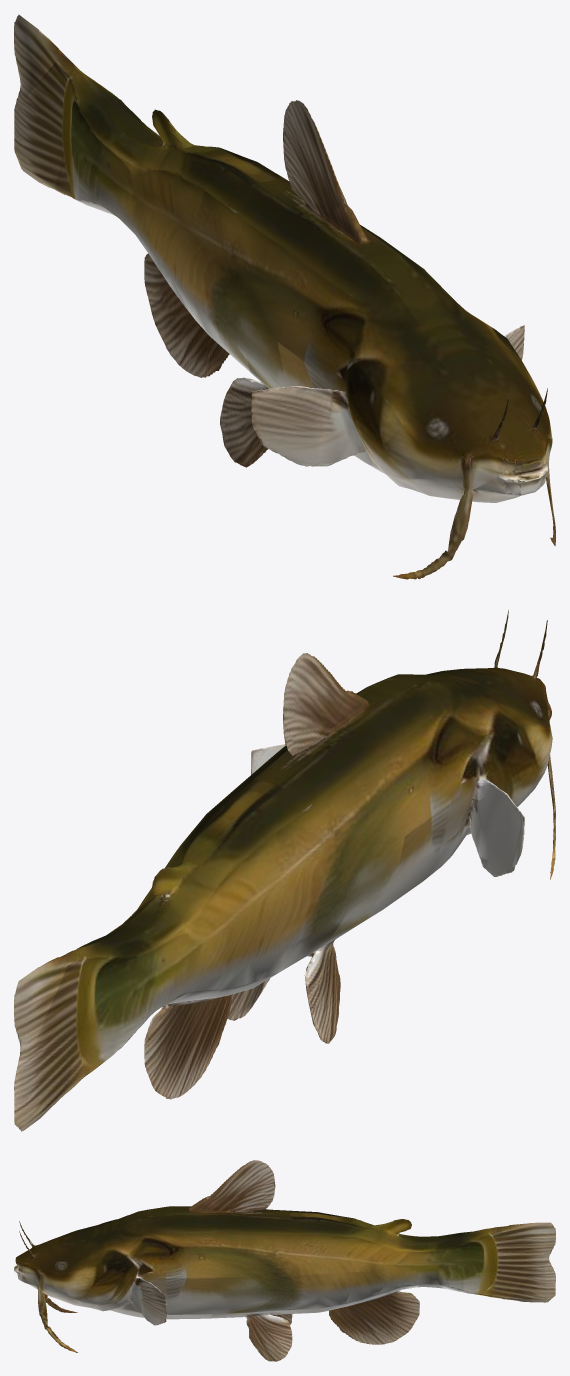
File: channel.glb
3 renders of one model, top to bottom at view 1: azimuth 30°, elevation 25°; view 2: azimuth 150°, elevation 25°; view 3: azimuth 270°, elevation 25°, orthographic. The views are drawn at different scales.
Visible parts, largest first — view 1: model_0; view 2: model_0; view 3: model_0.
Part boxes in pixels (x1,y1,x2,y2): model_0: (14, 14, 555, 579); model_0: (14, 610, 555, 1131); model_0: (14, 1160, 555, 1361).
Bounding box in the file's own units: 0.5773 × 0.7336 × 1.9.
1 material, 1 textured.
